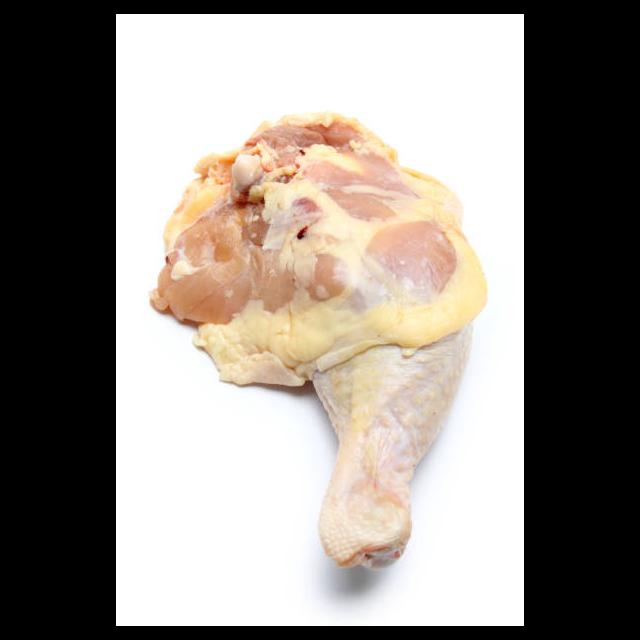chicken: (149, 113, 489, 568)
